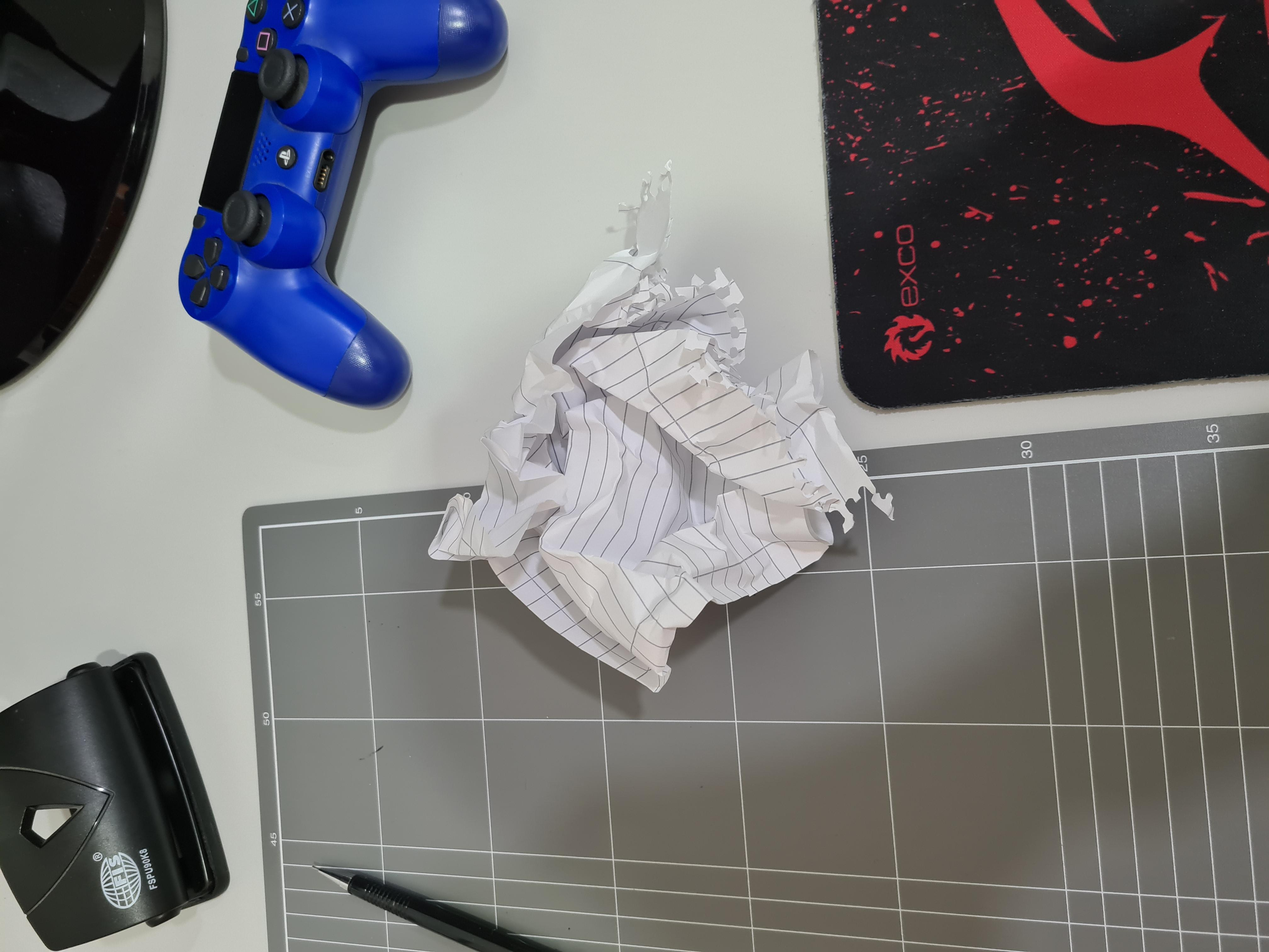paper: (349, 315, 1017, 648)
